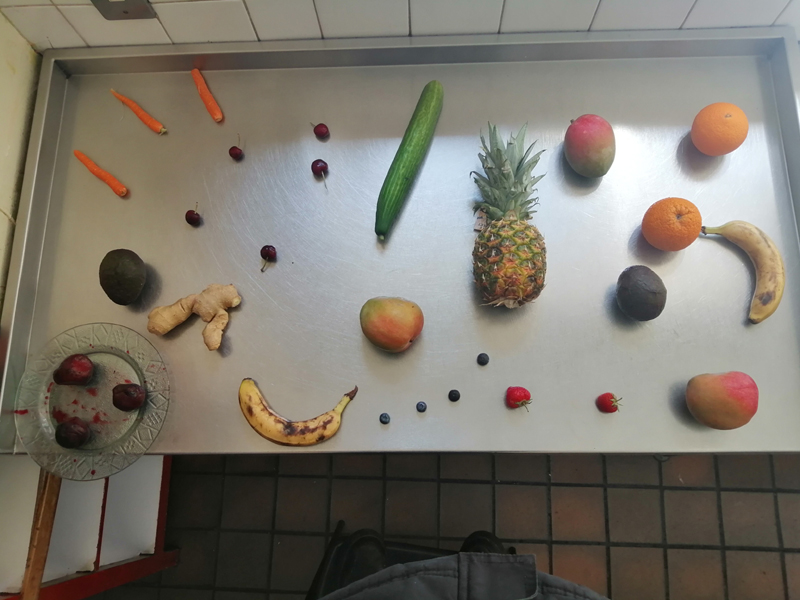avocado: (87, 238, 155, 309), (612, 263, 669, 324)
banana: (703, 210, 792, 333), (234, 368, 359, 451)
beet: (51, 414, 96, 453), (49, 349, 96, 386), (111, 379, 150, 412)
blueberry: (402, 398, 435, 424), (441, 388, 466, 409), (475, 345, 491, 368), (376, 408, 389, 432)
carrot: (69, 135, 136, 204), (102, 85, 177, 146), (179, 66, 234, 132)
cherry: (297, 153, 335, 196), (246, 231, 279, 274), (183, 189, 213, 229), (302, 110, 331, 144), (227, 122, 247, 169)
cucumber: (365, 79, 451, 254)
ginger: (146, 273, 262, 354)
mango: (347, 290, 435, 361), (677, 365, 767, 434), (554, 106, 623, 186)
orange: (684, 94, 755, 163), (637, 197, 702, 254)
pineapple: (468, 106, 553, 314)
strawberry: (497, 376, 537, 419), (590, 390, 624, 417)
